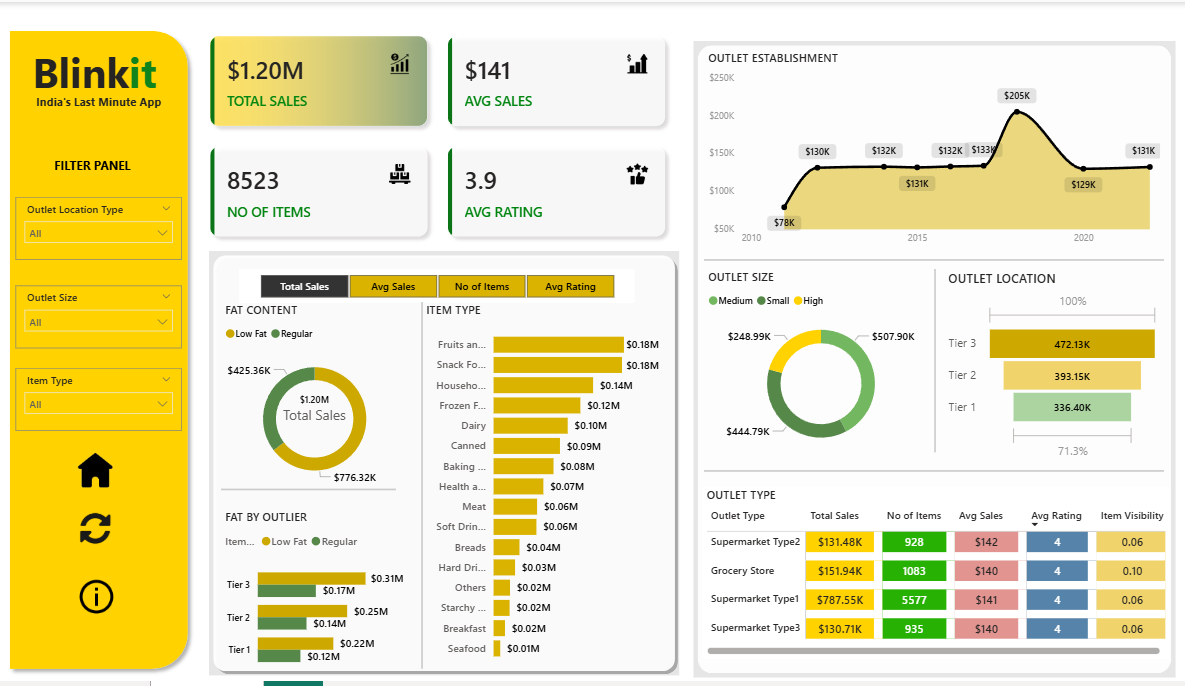

The dashboard page shown, as its layout file describes it:
{"tool":"powerbi","page":{"name":"Page 1","canvas":[1400,800],"ordinal":0},"visuals":[{"type":"shape","box":[4,24,228,770],"z":0},{"type":"textbox","box":[15,45,196.7,76.7],"z":1000},{"type":"textbox","box":[33.3,103.3,168.3,36.7],"z":2000},{"type":"cardVisual","fields":{"Data":["BlinkIT Grocery Data.Total Sales","BlinkIT Grocery Data.Avg Sales","BlinkIT Grocery Data.No of Items","BlinkIT Grocery Data.Avg Rating"]},"box":[231.7,23.3,570,270],"z":3000},{"type":"shape","box":[248,294,554,500],"z":4000},{"type":"donutChart","title":"FAT CONTENT","fields":{"Y":["BlinkIT Grocery Data.Total Sales"],"Category":["BlinkIT Grocery Data.Item Fat Content"]},"box":[262,354,220,230],"z":5000},{"type":"slicer","fields":{"Values":["Metrics.Metrics"]},"box":[282,314,466,40],"z":6000},{"type":"cardVisual","fields":{"Data":["BlinkIT Grocery Data.Total Sales"]},"box":[314,444,114,62],"z":7000},{"type":"clusteredBarChart","title":"FAT BY OUTLIER","fields":{"Y":["BlinkIT Grocery Data.Total Sales"],"Category":["BlinkIT Grocery Data.Outlet Location Type"],"Series":["BlinkIT Grocery Data.Item Fat Content"]},"box":[262,598,220,202],"z":8000},{"type":"shape","box":[262,544,206,60],"z":9000},{"type":"shape","box":[452,354,92,432],"z":10000},{"type":"barChart","title":"ITEM TYPE","fields":{"Y":["BlinkIT Grocery Data.Total Sales"],"Category":["BlinkIT Grocery Data.Item Type"]},"box":[498,354,284,432],"z":11000},{"type":"shape","box":[818,46,568,750],"z":12000},{"type":"lineChart","title":"OUTLET ESTABLISHMENT","fields":{"Y":["BlinkIT Grocery Data.Total Sales"],"Category":["BlinkIT Grocery Data.Outlet Establishment Year"]},"box":[830,56,542,238],"z":13000},{"type":"shape","box":[830,274,542,60],"z":14000},{"type":"donutChart","title":"OUTLET SIZE","fields":{"Y":["BlinkIT Grocery Data.Total Sales"],"Category":["BlinkIT Grocery Data.Outlet Size"]},"box":[830,314,275,225],"z":15000},{"type":"shape","box":[1056,314,92,216],"z":16000},{"type":"funnel","title":"OUTLET LOCATION","fields":{"Y":["Sum(BlinkIT Grocery Data.Sales)"],"Category":["BlinkIT Grocery Data.Outlet Location Type"]},"box":[1114,314,258,230],"z":17000},{"type":"shape","box":[830,536,542,34],"z":18000},{"type":"pivotTable","title":"OUTLET TYPE","fields":{"Rows":["BlinkIT Grocery Data.Outlet Type"],"Values":["BlinkIT Grocery Data.Total Sales","BlinkIT Grocery Data.No of Items","BlinkIT Grocery Data.Avg Sales","BlinkIT Grocery Data.Avg Rating","Avg(BlinkIT Grocery Data.Item Visibility)"]},"box":[829,570,550,203],"z":19000},{"type":"slicer","fields":{"Values":["BlinkIT Grocery Data.Outlet Location Type"]},"box":[20,230,195.7,74.3],"z":20000},{"type":"slicer","fields":{"Values":["BlinkIT Grocery Data.Outlet Size"]},"box":[20,334.3,195.7,74.3],"z":21000},{"type":"slicer","fields":{"Values":["BlinkIT Grocery Data.Item Type"]},"box":[20,431.4,195.7,74.3],"z":22000},{"type":"image","box":[68,518,92,72],"z":23000},{"type":"image","box":[68,584,92,74],"z":24000},{"type":"image","box":[84,674,60,54],"z":25000},{"type":"textbox","box":[60,176,116,30],"z":27000}]}

Visuals, with their boxes in screenshot pixels (x1, y1, x2, y2), scaled from the page's 1400x800 canvas onto the 1185x686 screenshot:
shape: select_region(3, 21, 196, 681)
textbox: select_region(13, 39, 179, 104)
textbox: select_region(28, 89, 171, 120)
cardVisual - BlinkIT Grocery Data.Total Sales x BlinkIT Grocery Data.Avg Sales: select_region(196, 20, 679, 252)
shape: select_region(210, 252, 679, 681)
"FAT CONTENT" donutChart: select_region(222, 304, 408, 501)
slicer - Metrics.Metrics: select_region(239, 269, 633, 304)
cardVisual - BlinkIT Grocery Data.Total Sales: select_region(266, 381, 362, 434)
"FAT BY OUTLIER" clusteredBarChart: select_region(222, 513, 408, 685)
shape: select_region(222, 466, 396, 518)
shape: select_region(383, 304, 460, 674)
"ITEM TYPE" barChart: select_region(422, 304, 662, 674)
shape: select_region(692, 39, 1173, 683)
"OUTLET ESTABLISHMENT" lineChart: select_region(703, 48, 1161, 252)
shape: select_region(703, 235, 1161, 286)
"OUTLET SIZE" donutChart: select_region(703, 269, 935, 462)
shape: select_region(894, 269, 972, 454)
"OUTLET LOCATION" funnel: select_region(943, 269, 1161, 466)
shape: select_region(703, 460, 1161, 489)
"OUTLET TYPE" pivotTable: select_region(702, 489, 1167, 663)
slicer - BlinkIT Grocery Data.Outlet Location Type: select_region(17, 197, 183, 261)
slicer - BlinkIT Grocery Data.Outlet Size: select_region(17, 287, 183, 350)
slicer - BlinkIT Grocery Data.Item Type: select_region(17, 370, 183, 434)
image: select_region(58, 444, 135, 506)
image: select_region(58, 501, 135, 564)
image: select_region(71, 578, 122, 624)
textbox: select_region(51, 151, 149, 177)
